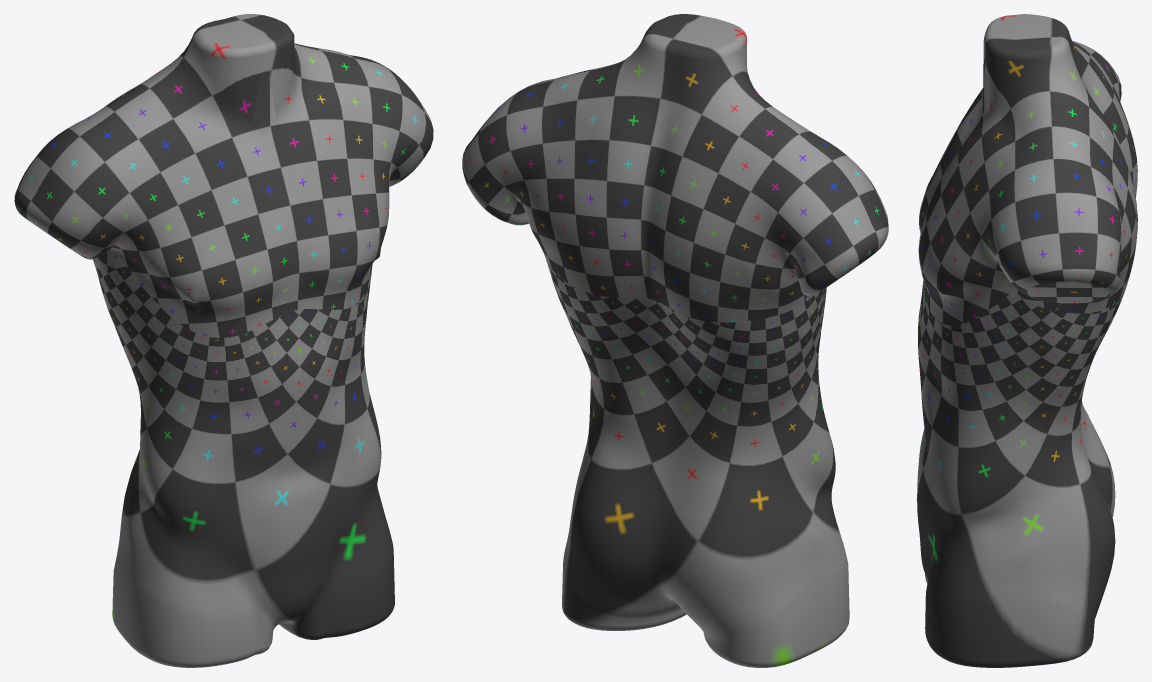
The model's file is torso.glb.
3 renders of one model, left to right at view 1: azimuth 30°, elevation 25°; view 2: azimuth 150°, elevation 25°; view 3: azimuth 270°, elevation 25°, orthographic. The views are drawn at different scales.
Visible parts, largest first — view 1: FinalBaseMesh; view 2: FinalBaseMesh; view 3: FinalBaseMesh.
Boxes of the visible parts, bbox=[...] form: FinalBaseMesh: bbox=[14, 14, 433, 667]; FinalBaseMesh: bbox=[462, 14, 888, 667]; FinalBaseMesh: bbox=[917, 14, 1137, 667].
Size of the model in its own units: 6.28 by 8.81 by 3.04.
1 material, 1 textured.
